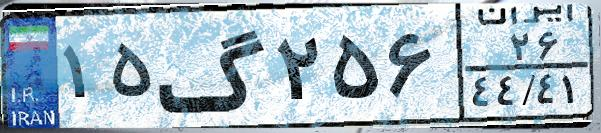1: (57, 26, 110, 100), (560, 70, 590, 125)
2: (270, 28, 330, 110), (508, 27, 537, 80)
4: (470, 70, 495, 125), (495, 70, 520, 125), (535, 70, 560, 125)
5: (330, 28, 385, 110), (110, 28, 156, 98)
6: (385, 28, 445, 110), (537, 27, 568, 80)
گ: (156, 12, 270, 120)
